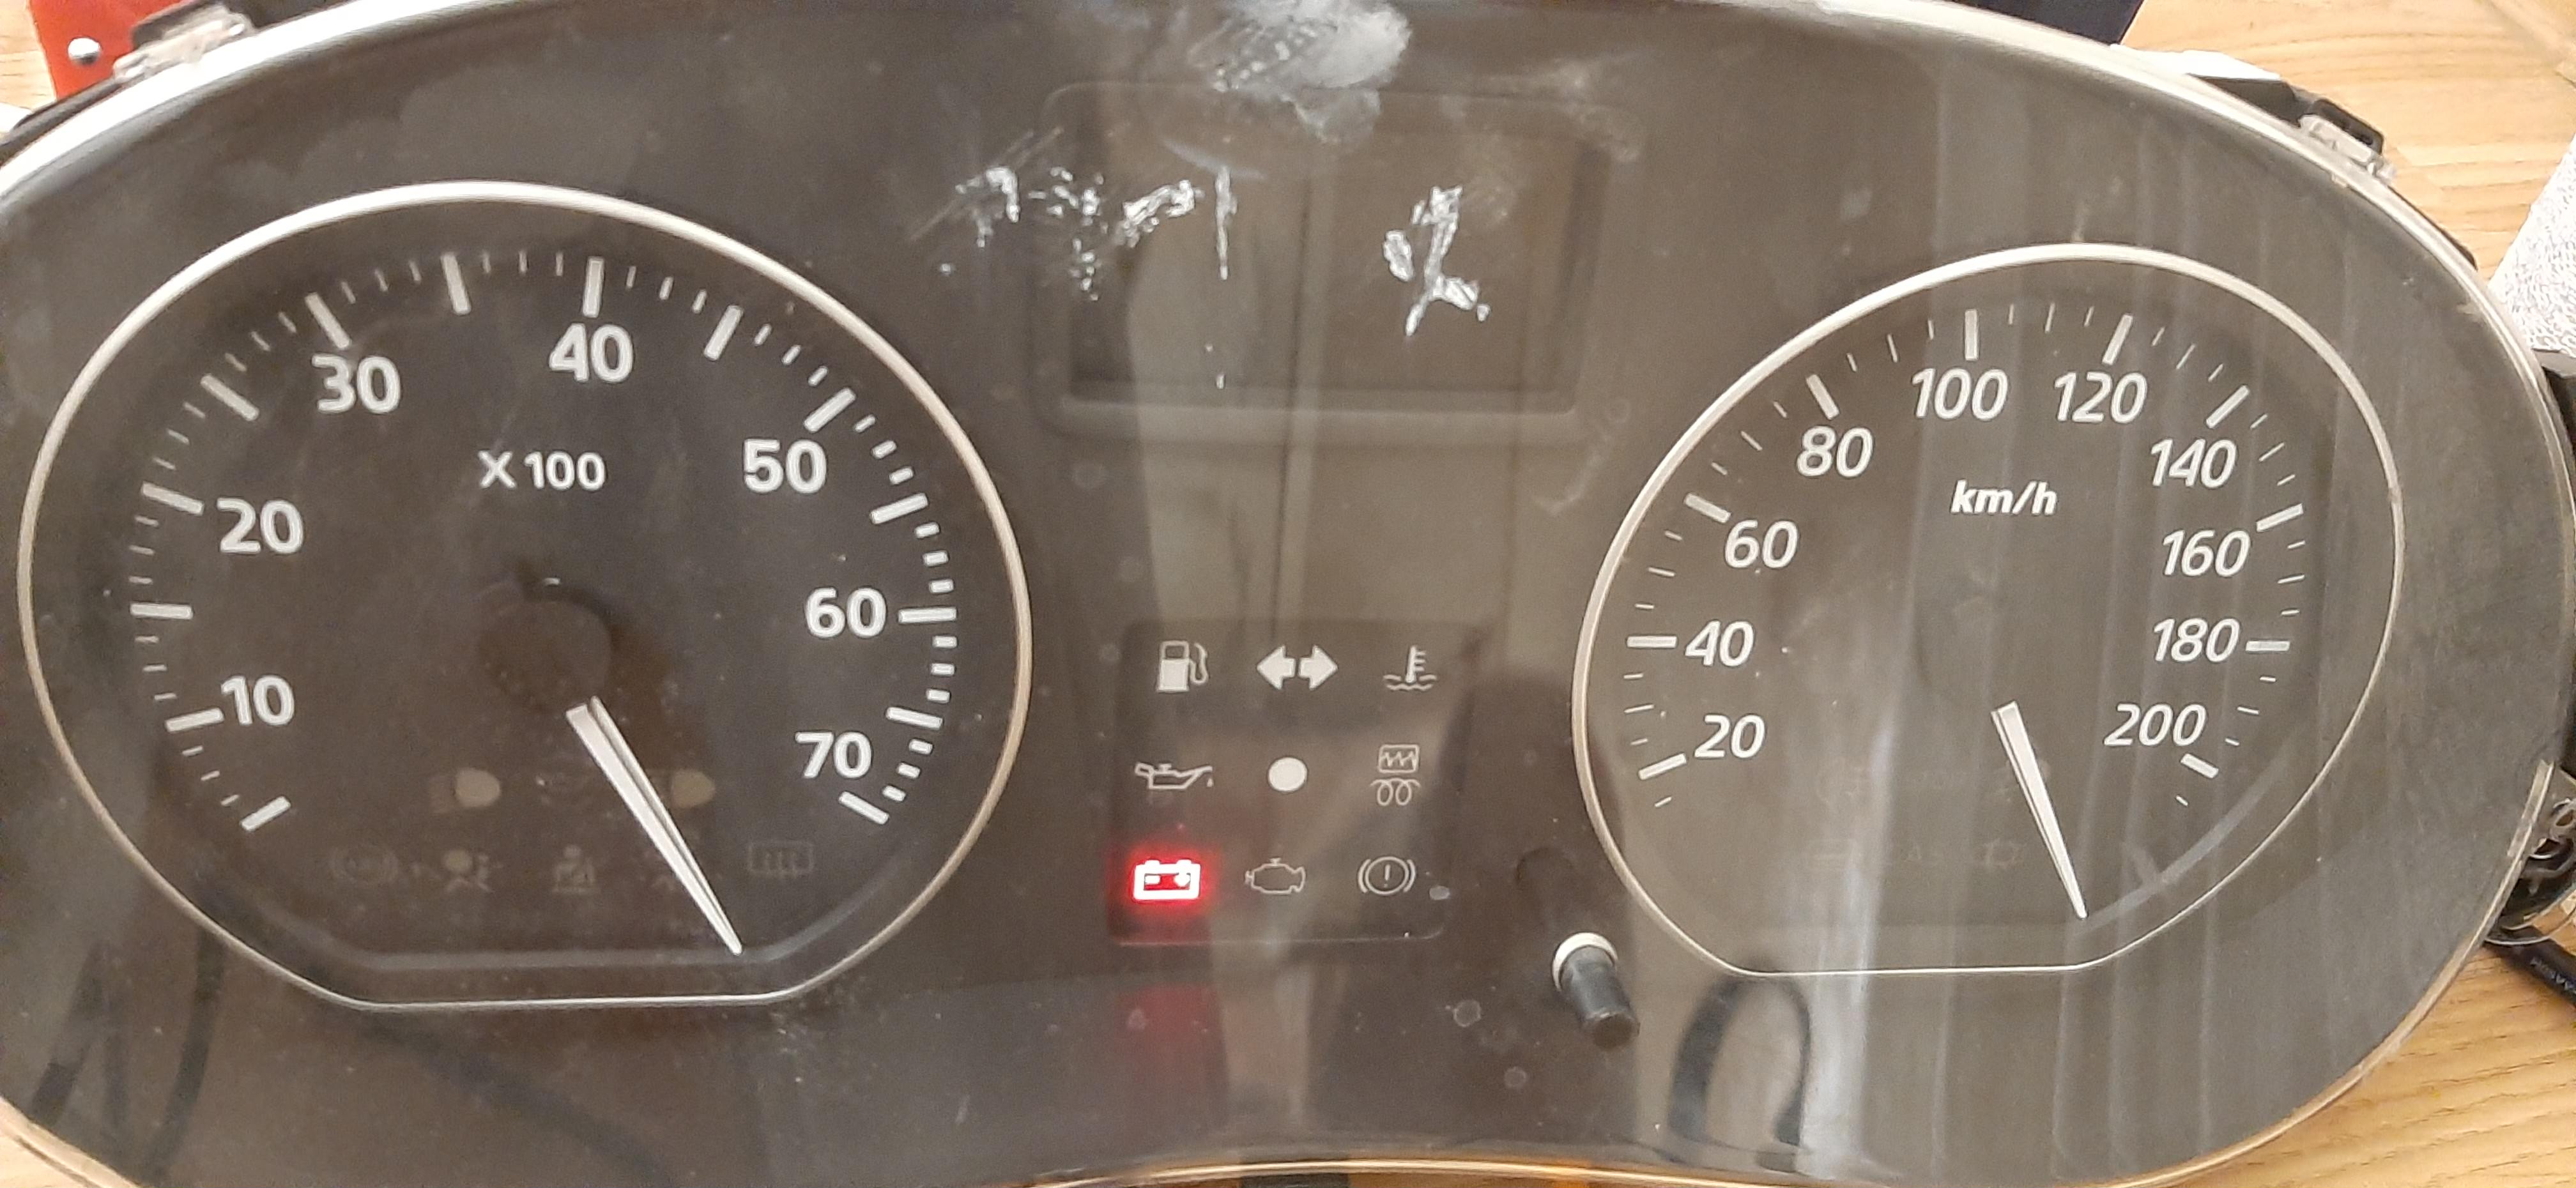accomulator10: (1127, 854, 1206, 907)
